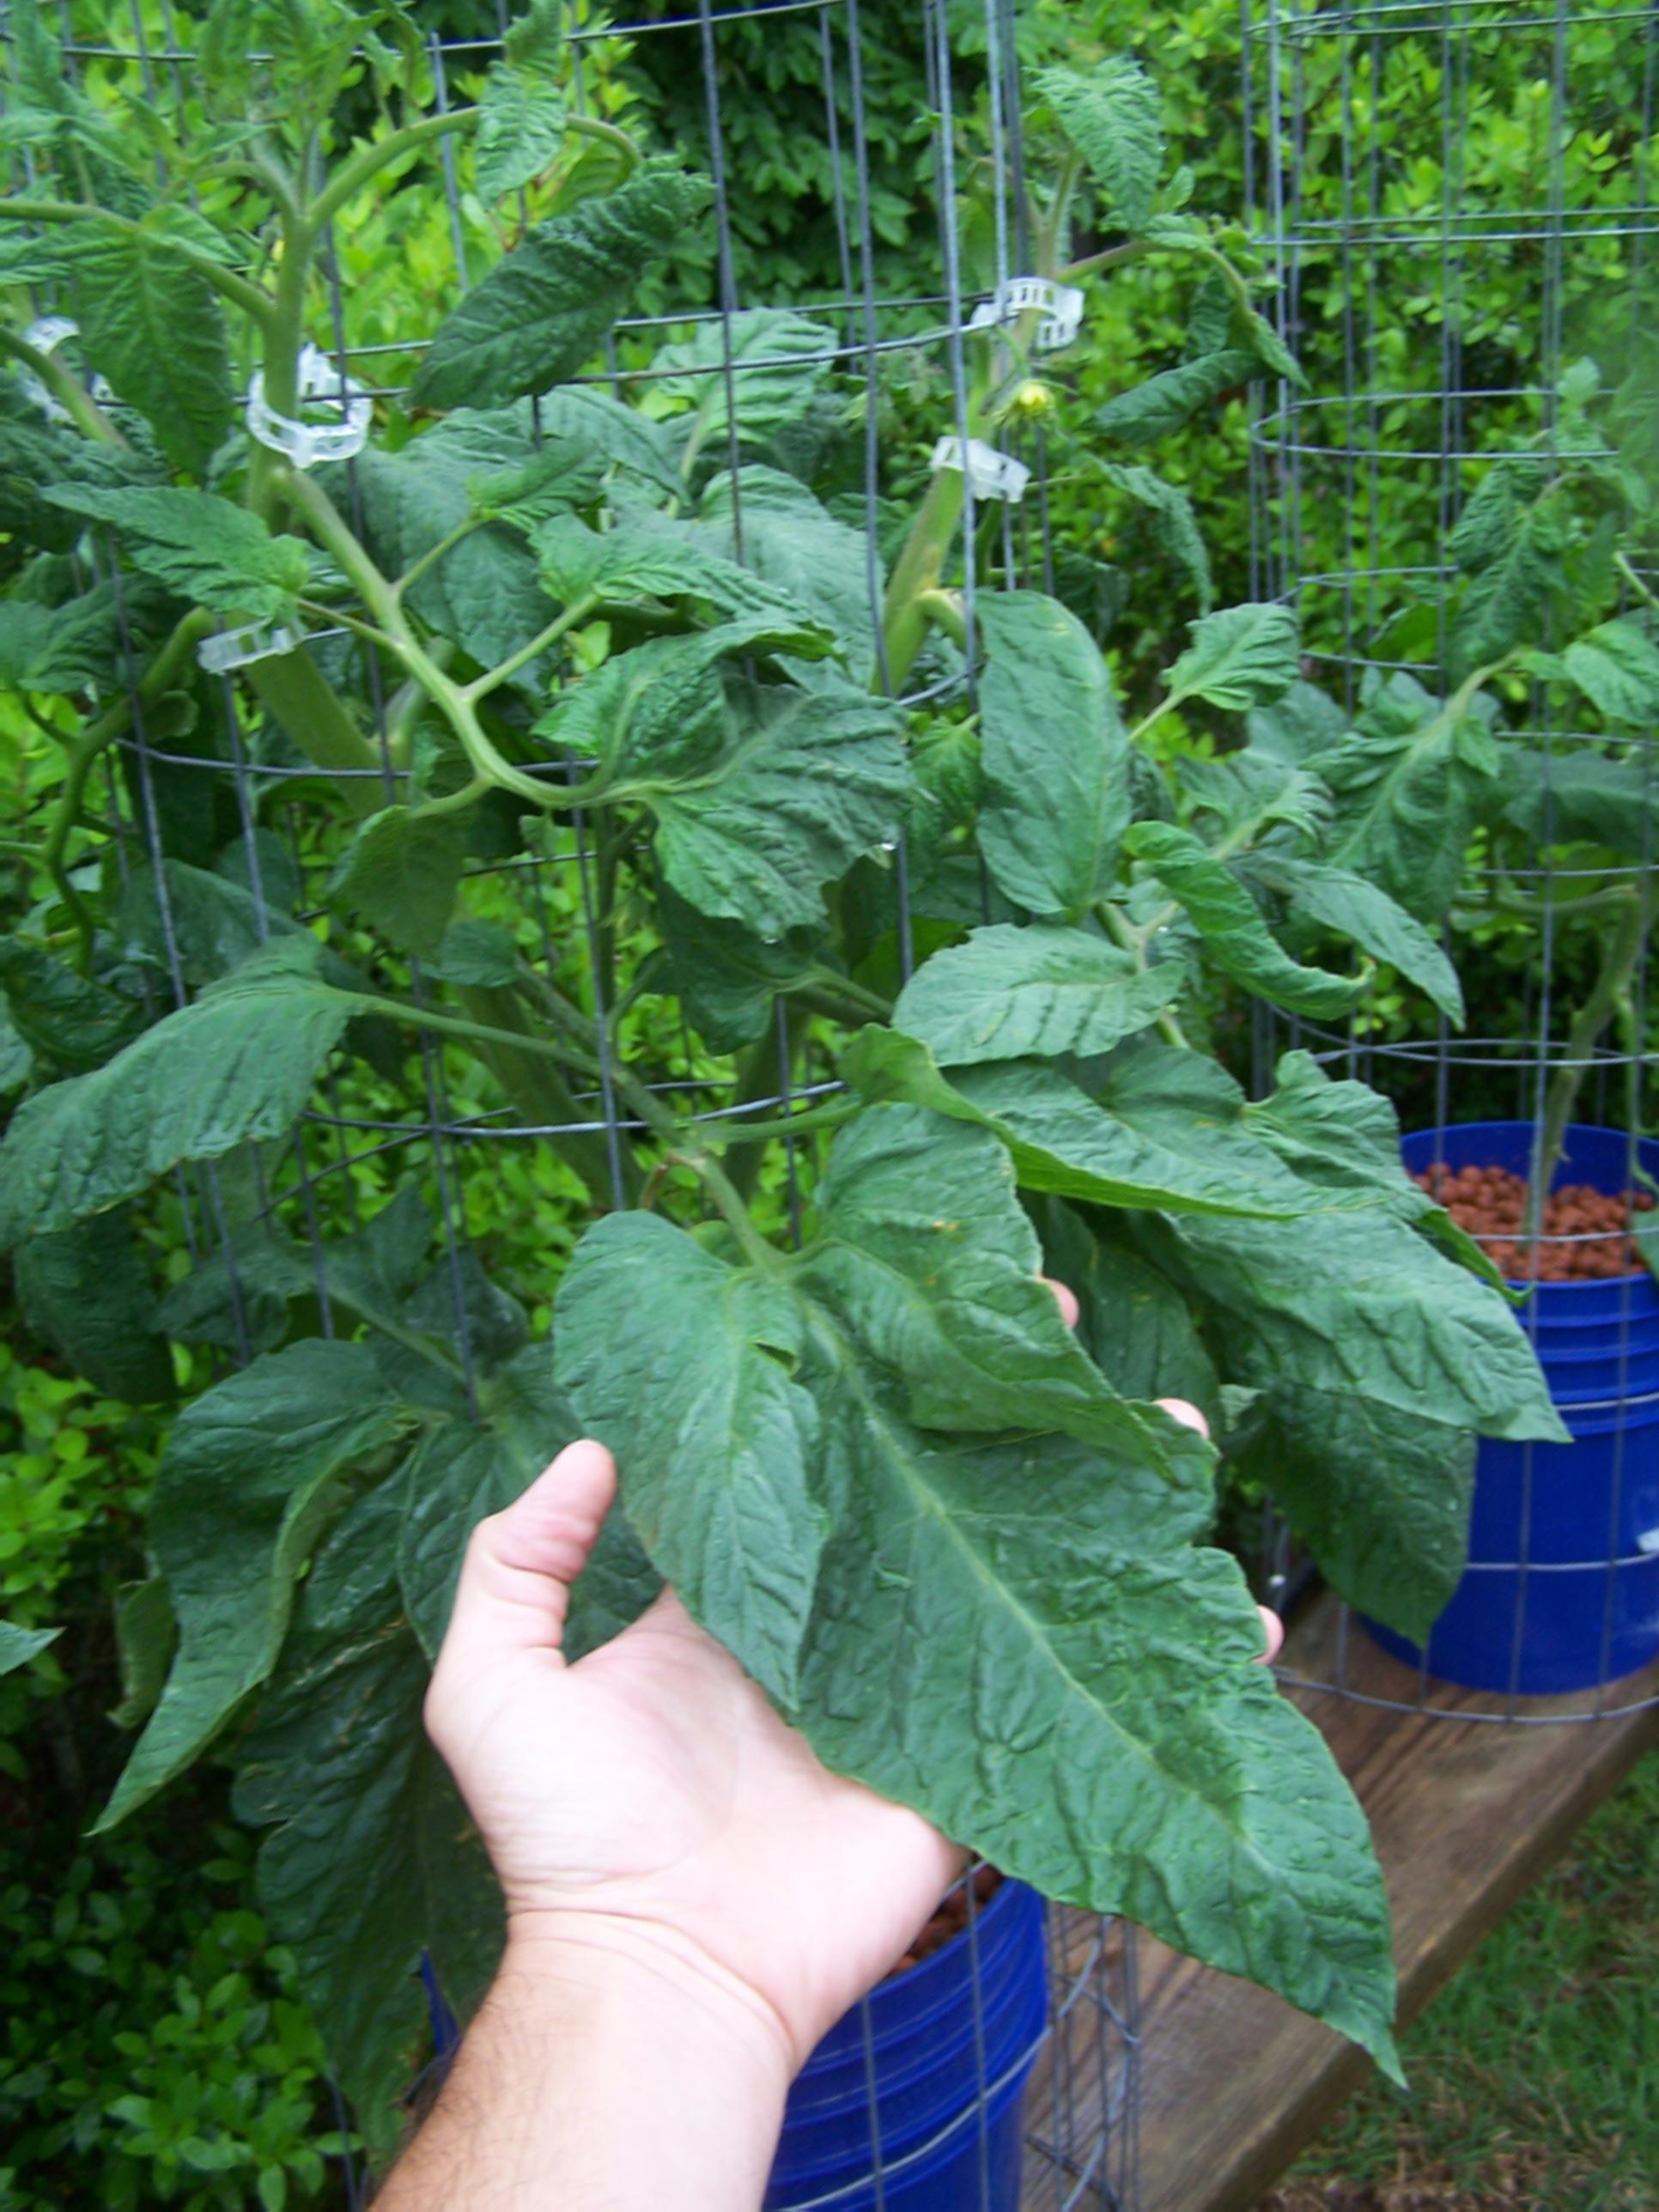Tomato leaf: (594, 1205, 1420, 2071), (1025, 1083, 1568, 1456), (14, 967, 331, 1216), (941, 597, 1126, 958), (631, 709, 897, 914), (47, 448, 314, 639), (856, 944, 1180, 1092), (1152, 594, 1317, 712)
